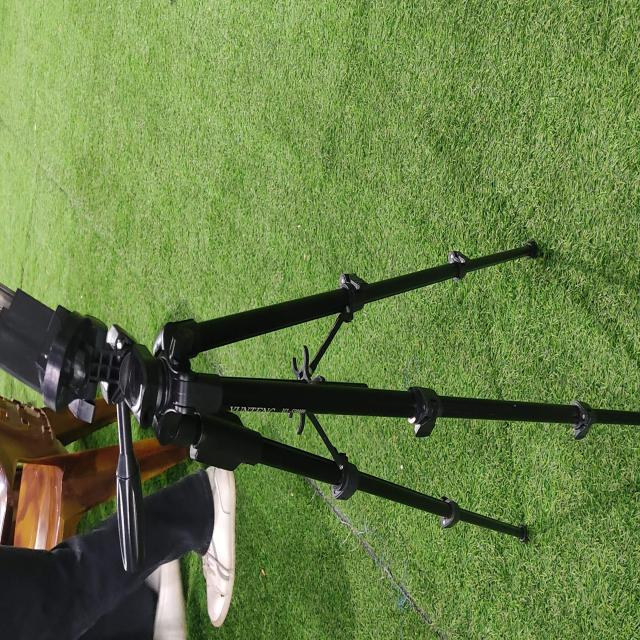Camer Stand: (1, 237, 639, 630)
